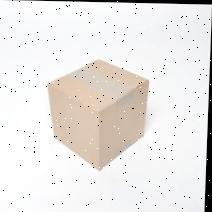cube: (46, 58, 149, 172)
